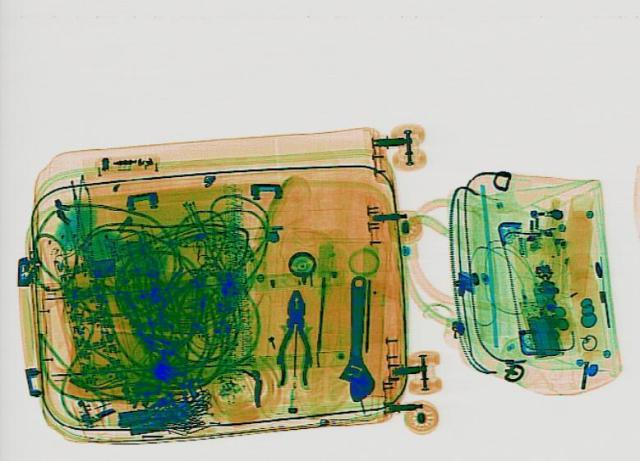Pliers: (273, 288, 313, 384)
Wrench: (336, 274, 376, 400)
